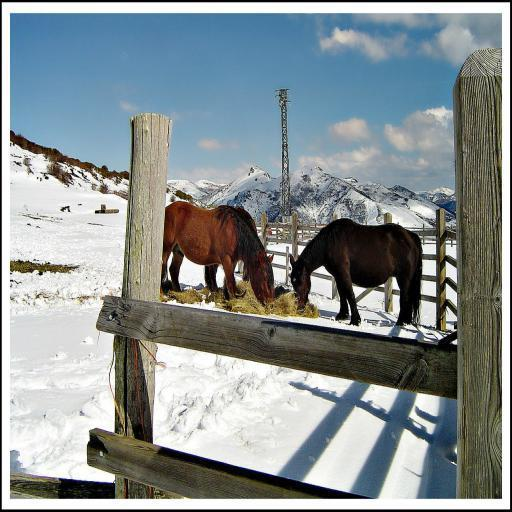horse: (288, 217, 424, 326), (202, 204, 258, 293)
